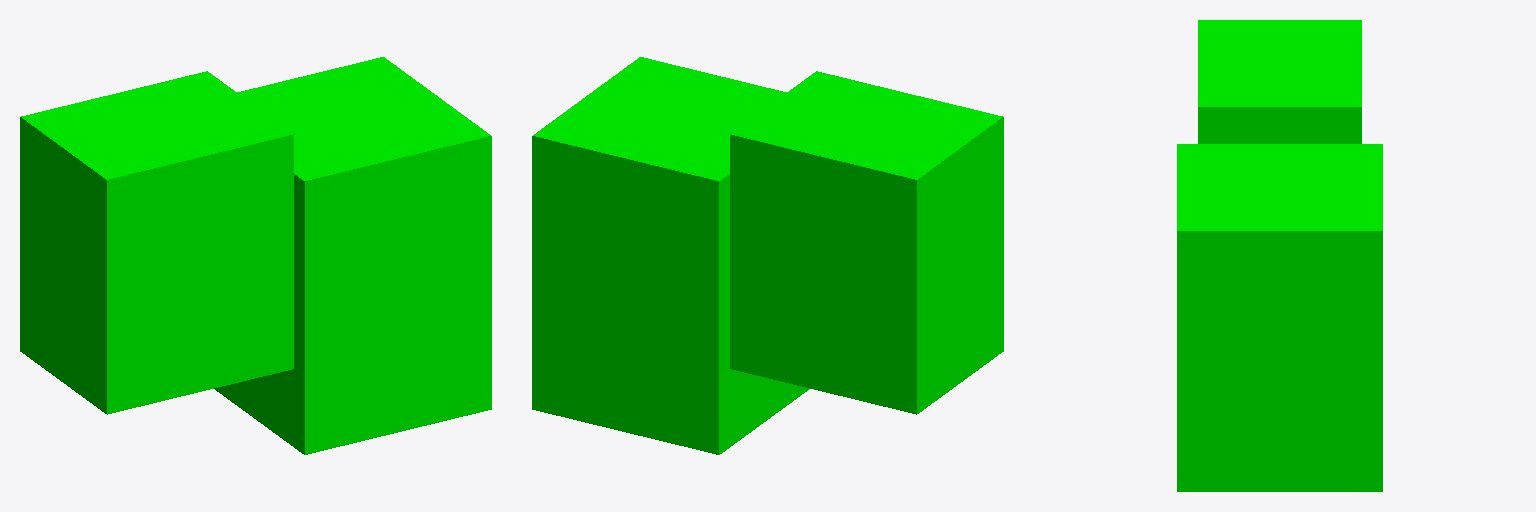
URDF robot description (robot):
<robot name = "robot">
    <link name="root">
        <inertial>
            <origin xyz="0.0 0.0 1.5" rpy="0 0 0"/>
            <mass value="1" />
            <inertia ixx="100" ixy="0" ixz="0" iyy="100" iyz="0" izz="100" />
        </inertial>
        <visual>
            <origin xyz="0.0 0.0 1.5" rpy="0 0 0"/>
            <geometry>
                <box size="0 0 0.0001" />
            </geometry>
            <material name="Green">
                <color rgba="0 1.0 0.0 1.0"/>
            </material>
        </visual>
        <collision>
            <origin xyz="0.0 0.0 1.5" rpy="0 0 0"/>
            <geometry>
                <box size="0 0 0.0001" />
            </geometry>
        </collision>
    </link>
    <joint name="root_000" type="revolute">
       <parent link="root"/>
       <child  link="000"/>
       <origin rpy="0 0 0" xyz="0.0 0.0 1.5" />
     <axis xyz="1 0 0"/>
       <limit effort="0.0" lower="-3.14159" upper="3.14159" velocity="0.0"/>
    </joint>
    <link name="000">
        <inertial>
            <origin xyz="0.0 0.0 -0.15" rpy="0 0 0"/>
            <mass value="1" />
            <inertia ixx="100" ixy="0" ixz="0" iyy="100" iyz="0" izz="100" />
        </inertial>
        <visual>
            <origin xyz="0.0 0.0 -0.15" rpy="0 0 0"/>
            <geometry>
                <box size="0.5 0.4 0.3" />
            </geometry>
            <material name="Green">
                <color rgba="0 1.0 0.0 1.0"/>
            </material>
        </visual>
        <collision>
            <origin xyz="0.0 0.0 -0.15" rpy="0 0 0"/>
            <geometry>
                <box size="0.5 0.4 0.3" />
            </geometry>
        </collision>
    </link>
    <joint name="000_010" type="revolute">
       <parent link="000"/>
       <child  link="010"/>
       <origin rpy="0 0 0" xyz="0.0 0.0 -0.3" />
     <axis xyz="0 0 1"/>
       <limit effort="0.0" lower="-3.14159" upper="3.14159" velocity="0.0"/>
    </joint>
    <link name="010">
        <inertial>
            <origin xyz="0.0 0.0 -0.15" rpy="0 0 0"/>
            <mass value="1" />
            <inertia ixx="100" ixy="0" ixz="0" iyy="100" iyz="0" izz="100" />
        </inertial>
        <visual>
            <origin xyz="0.0 0.0 -0.15" rpy="0 0 0"/>
            <geometry>
                <box size="0.5 0.4 0.3" />
            </geometry>
            <material name="Green">
                <color rgba="0 1.0 0.0 1.0"/>
            </material>
        </visual>
        <collision>
            <origin xyz="0.0 0.0 -0.15" rpy="0 0 0"/>
            <geometry>
                <box size="0.5 0.4 0.3" />
            </geometry>
        </collision>
    </link>
    <joint name="010_010-100" type="revolute">
       <parent link="010"/>
       <child  link="010-100"/>
       <origin rpy="0 0 0" xyz="0.25 0.0 -0.15" />
     <axis xyz="1 0 0"/>
       <limit effort="0.0" lower="-3.14159" upper="3.14159" velocity="0.0"/>
    </joint>
    <link name="010-100">
        <inertial>
            <origin xyz="0.25 0.0 -0.0" rpy="0 0 0"/>
            <mass value="1" />
            <inertia ixx="100" ixy="0" ixz="0" iyy="100" iyz="0" izz="100" />
        </inertial>
        <visual>
            <origin xyz="0.25 0.0 -0.0" rpy="0 0 0"/>
            <geometry>
                <box size="0.5 0.5 0.7" />
            </geometry>
            <material name="Green">
                <color rgba="0 1.0 0.0 1.0"/>
            </material>
        </visual>
        <collision>
            <origin xyz="0.25 0.0 -0.0" rpy="0 0 0"/>
            <geometry>
                <box size="0.5 0.5 0.7" />
            </geometry>
        </collision>
    </link>
</robot>

--- Facts derived from the render (not from the file) ---
3 views of the same robot in one strip: view 1: azimuth 30°, elevation 25°; view 2: azimuth 150°, elevation 25°; view 3: azimuth 270°, elevation 25° (orthographic).
Robot: robot — 4 links, 3 joints (3 revolute); root link root; default pose: all joints at 0.
Visible links, largest first — view 1: 010-100, 000, 010; view 2: 010-100, 000, 010; view 3: 010-100, 000.
Boxes of the visible links, box(x1,y1,x2,y2) form: 010-100: box(214, 57, 491, 454); 000: box(20, 71, 293, 296); 010: box(20, 234, 293, 414); 010-100: box(532, 57, 809, 454); 000: box(730, 71, 1003, 296); 010: box(730, 234, 1003, 414); 010-100: box(1177, 144, 1382, 491); 000: box(1198, 20, 1361, 143).
Bounding box of the posed robot: 1 × 0.5 × 0.8 m (x, y, z).
Geometry: primitives only (box / cylinder / sphere), no mesh files.
